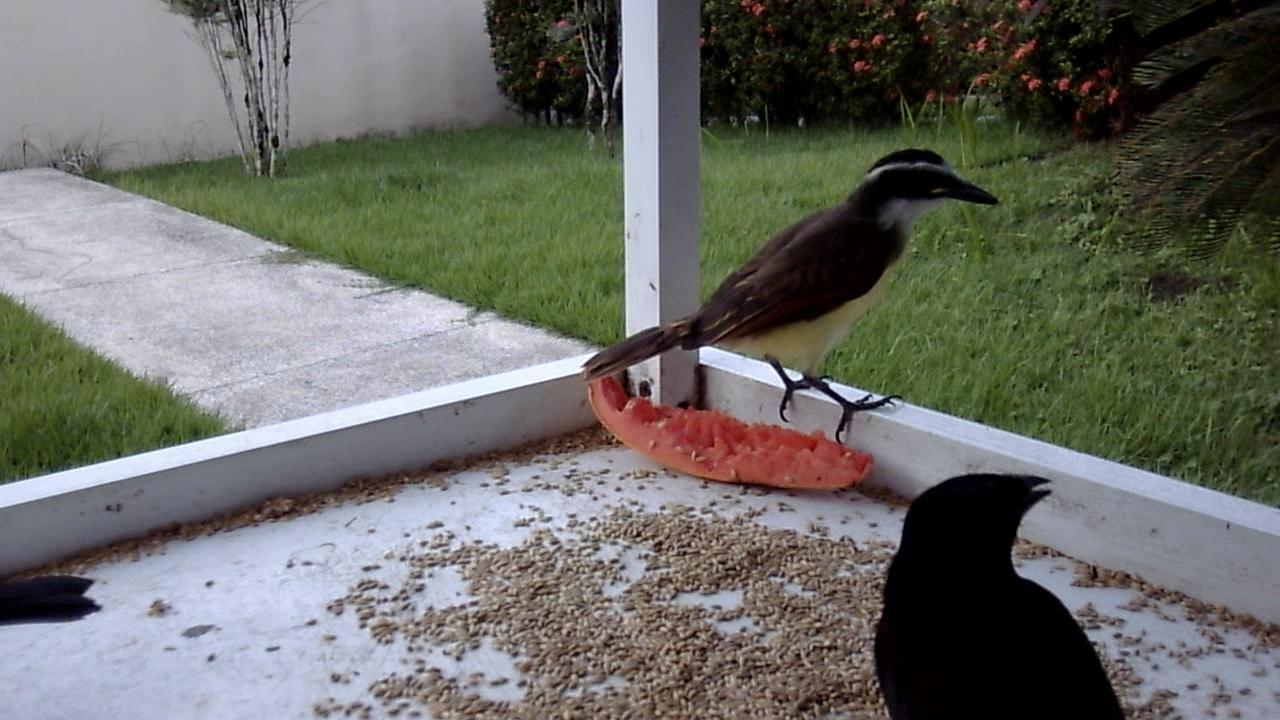bem_te_vi: (567, 137, 1010, 474)
chupim: (852, 474, 1141, 719)
